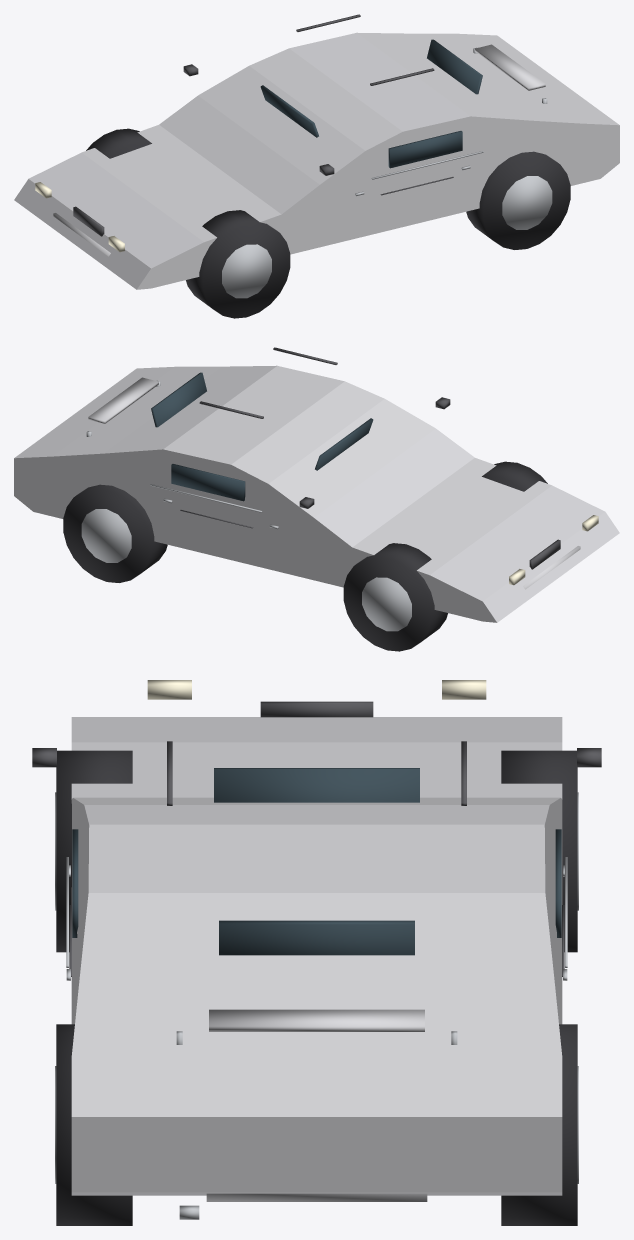
File: race-future.glb
The picture shows the model from 3 angles, top to bottom: view 1: azimuth 30°, elevation 25°; view 2: azimuth 150°, elevation 25°; view 3: azimuth 270°, elevation 25°; orthographic projection. The views are drawn at different scales.
Parts seen in each view (by area): view 1: body_main, wheel_front_r, wheel_rear_r, trim_rim__front_r, trim_rim__rear_r, glass_side_r, glass_rear, body_spoiler, wheel_front_l, glass_windshield; view 2: body_main, wheel_front_l, wheel_rear_l, trim_rim__front_l, trim_rim__rear_l, glass_side_l, glass_rear, body_spoiler, wheel_front_r, glass_windshield; view 3: body_main, glass_windshield, glass_rear, wheel_rear_l, wheel_rear_r, wheel_front_l, wheel_front_r, body_spoiler, body_bumper_rear, trim_grille, headlight_l, headlight_r (+2 smaller).
Part boxes in pixels (x1,y1,x2,y2): body_main: [14, 32, 619, 289]; wheel_front_r: [186, 210, 290, 318]; wheel_rear_r: [466, 151, 570, 249]; trim_rim__front_r: [222, 244, 271, 298]; trim_rim__rear_r: [502, 176, 552, 229]; glass_side_r: [388, 131, 462, 168]; glass_rear: [427, 39, 482, 94]; body_spoiler: [475, 44, 545, 90]; wheel_front_l: [86, 128, 151, 158]; glass_windshield: [260, 85, 318, 137]; body_main: [14, 365, 619, 622]; wheel_front_l: [343, 543, 447, 651]; wheel_rear_l: [63, 484, 167, 582]; trim_rim__front_l: [362, 577, 411, 631]; trim_rim__rear_l: [81, 509, 131, 562]; glass_side_l: [171, 464, 245, 501]; glass_rear: [151, 372, 206, 427]; body_spoiler: [88, 377, 158, 423]; wheel_front_r: [482, 461, 547, 491]; glass_windshield: [315, 418, 373, 470]; body_main: [71, 717, 562, 1195]; glass_windshield: [214, 768, 419, 802]; glass_rear: [219, 920, 414, 955]; wheel_rear_l: [501, 1024, 577, 1225]; wheel_rear_r: [56, 1024, 132, 1225]; wheel_front_l: [501, 750, 577, 952]; wheel_front_r: [56, 750, 132, 952]; body_spoiler: [209, 1009, 424, 1031]; body_bumper_rear: [206, 1193, 427, 1201]; trim_grille: [260, 701, 373, 717]; headlight_l: [442, 680, 486, 699]; headlight_r: [147, 680, 191, 699].
Bounding box in the file's own units: 4.6 × 1.58 × 2.32.
